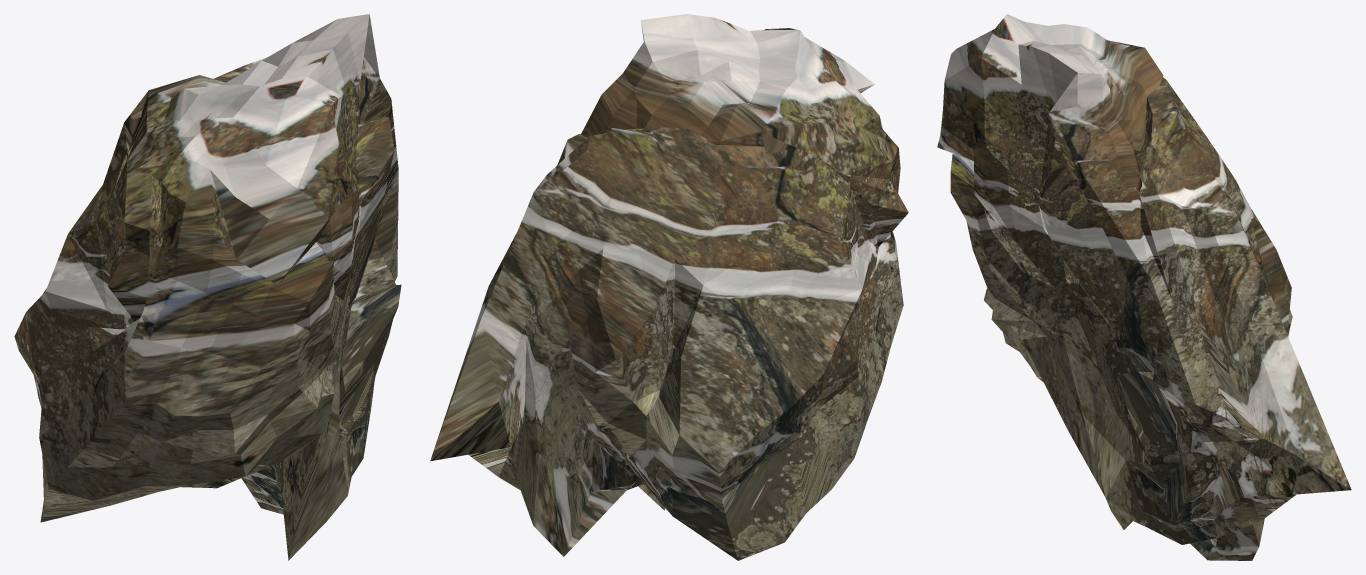
File: Roca1.fbx
3 views of the same model, side by side, from view 1: azimuth 30°, elevation 25°; view 2: azimuth 150°, elevation 25°; view 3: azimuth 270°, elevation 25° (orthographic). The views are drawn at different scales.
Visible parts, largest first — view 1: Sphere.010; view 2: Sphere.010; view 3: Sphere.010.
Boxes of the visible parts, x1,y1,x2,y2 form: Sphere.010: [14, 14, 401, 560]; Sphere.010: [430, 14, 908, 560]; Sphere.010: [937, 14, 1351, 560].
Size of the model in its own units: 1522 by 2077 by 1576.
1 material, 1 textured.
